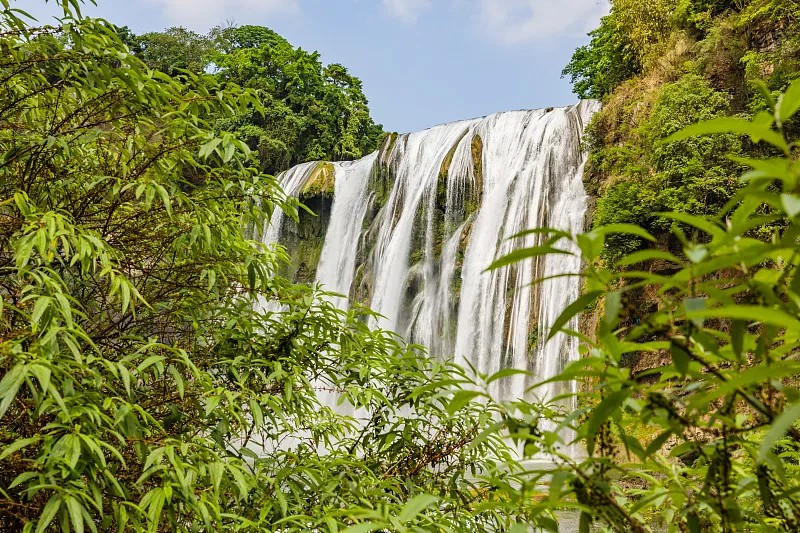Huangguoshu: (263, 100, 602, 406)
